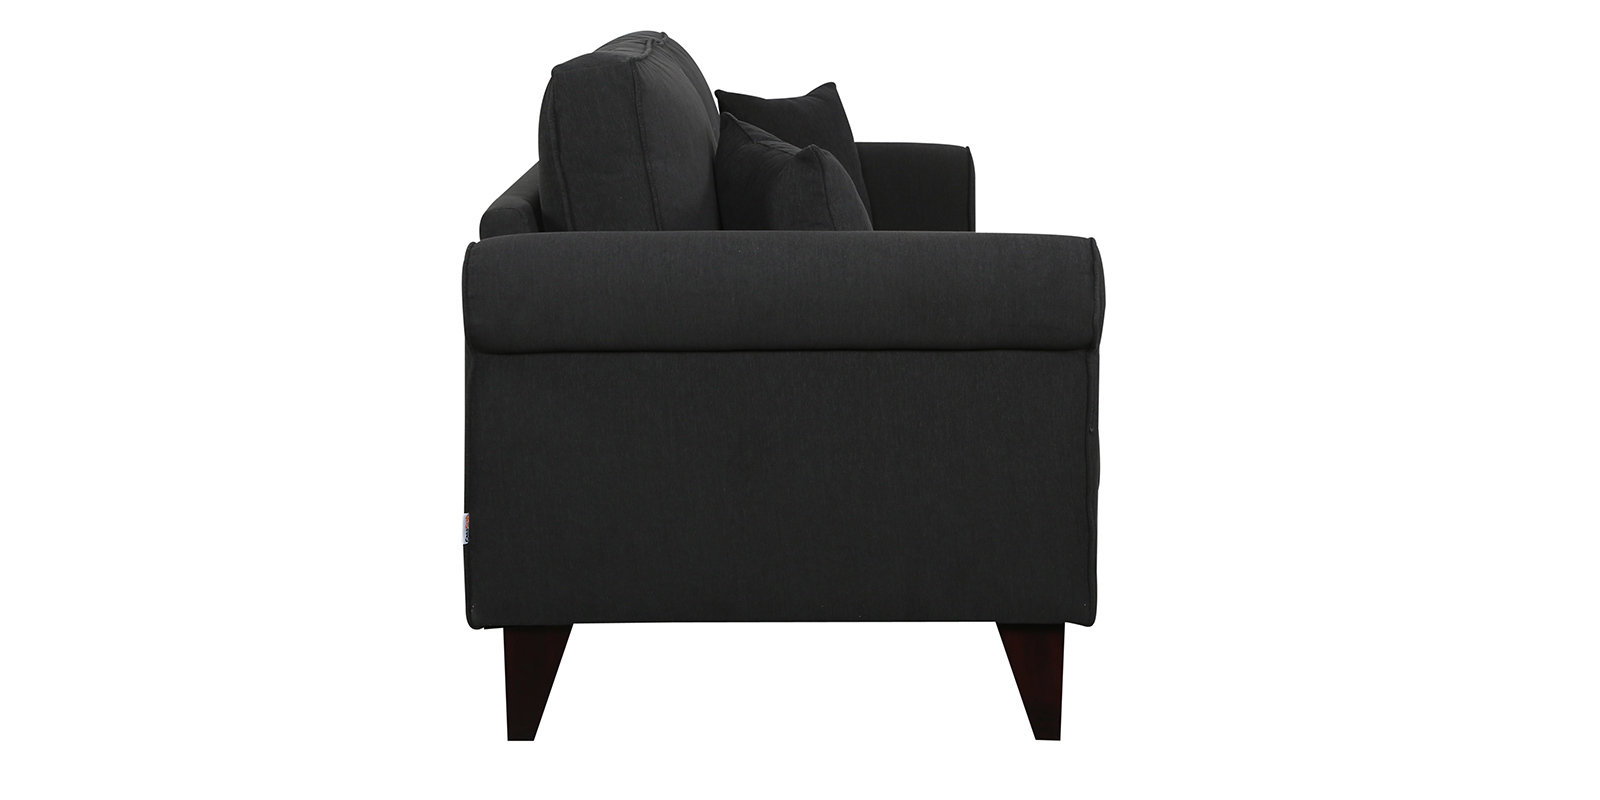Fuego Three Seater Sofa in Charcoal Grey Colour by CasaCraft: (455, 21, 1116, 764)
